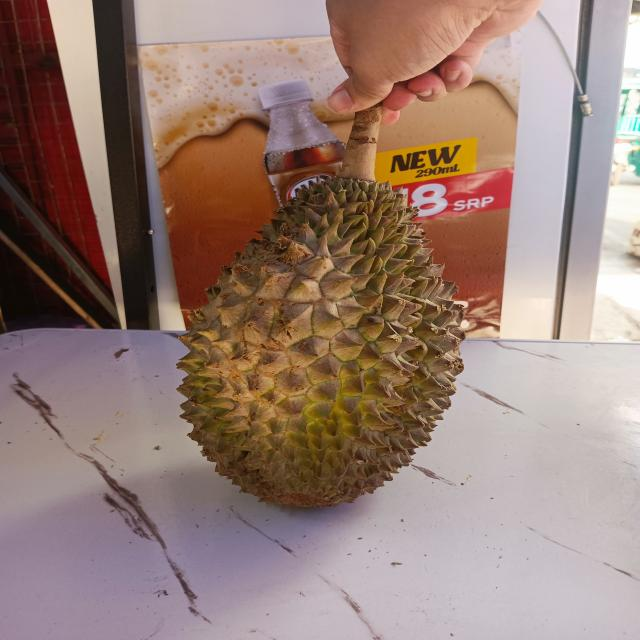mature: (172, 172, 463, 507)
